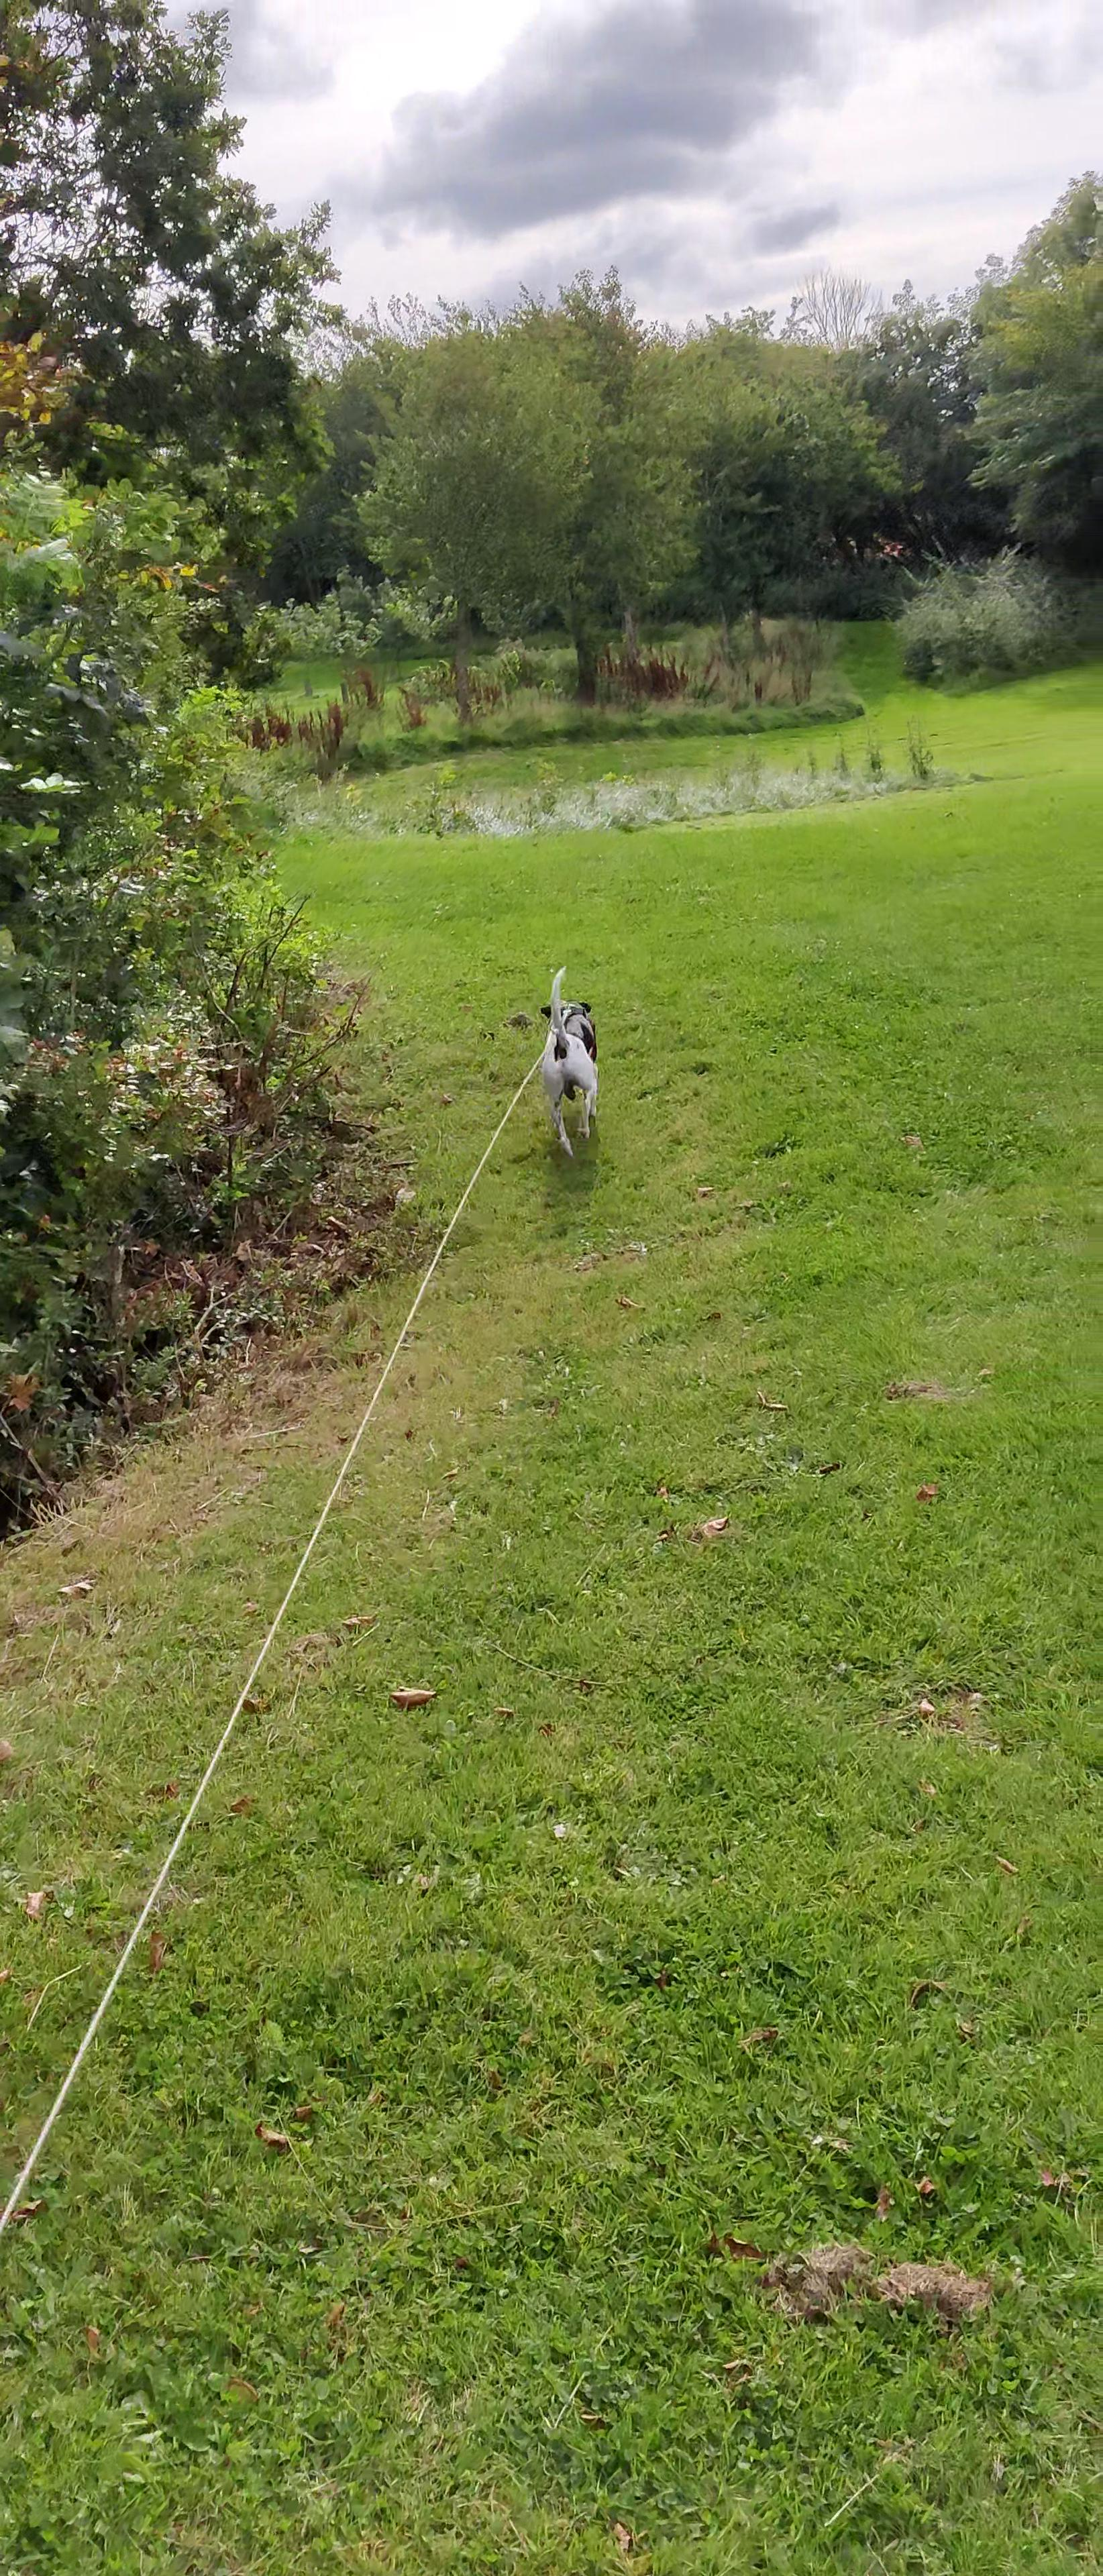Dog: (518, 958, 613, 1161)
